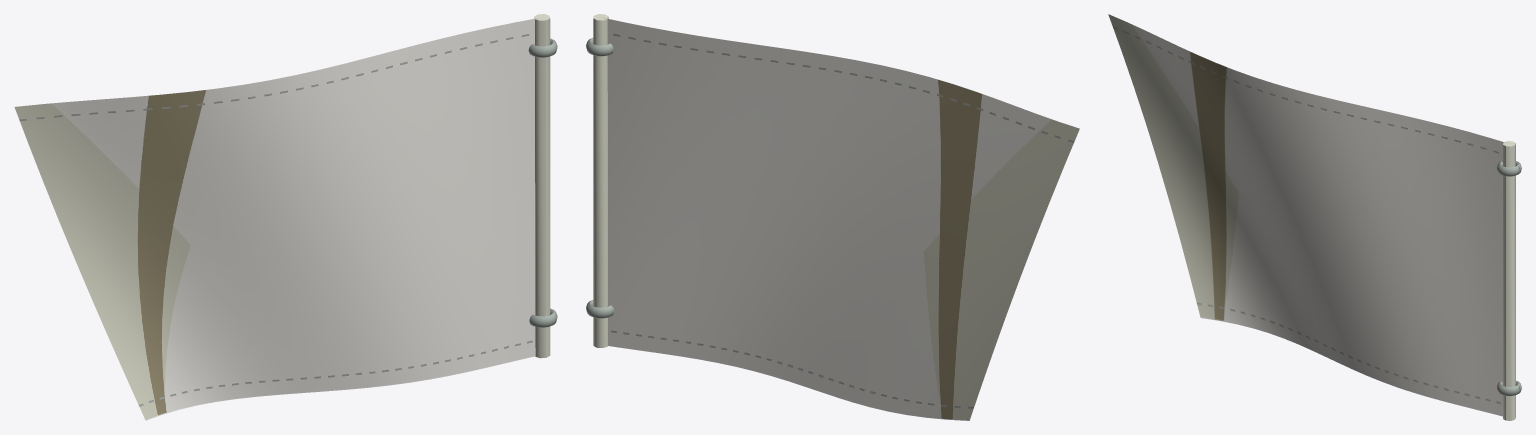
The model's file is Pennant_15_R_深緑・銀襟.glb.
3 views of the same model, side by side, from view 1: azimuth 30°, elevation 25°; view 2: azimuth 150°, elevation 25°; view 3: azimuth 330°, elevation 25° (orthographic). The views are drawn at different scales.
Visible parts, largest first — view 1: Pennant_15_R; view 2: Pennant_15_R; view 3: Pennant_15_R.
Part boxes in pixels (bbox=[...]): Pennant_15_R: bbox=[14, 14, 557, 420]; Pennant_15_R: bbox=[586, 14, 1079, 420]; Pennant_15_R: bbox=[1108, 14, 1521, 420].
Size of the model in its own units: 0.2925 by 0.192 by 0.0267.
3 materials, 3 textured.
